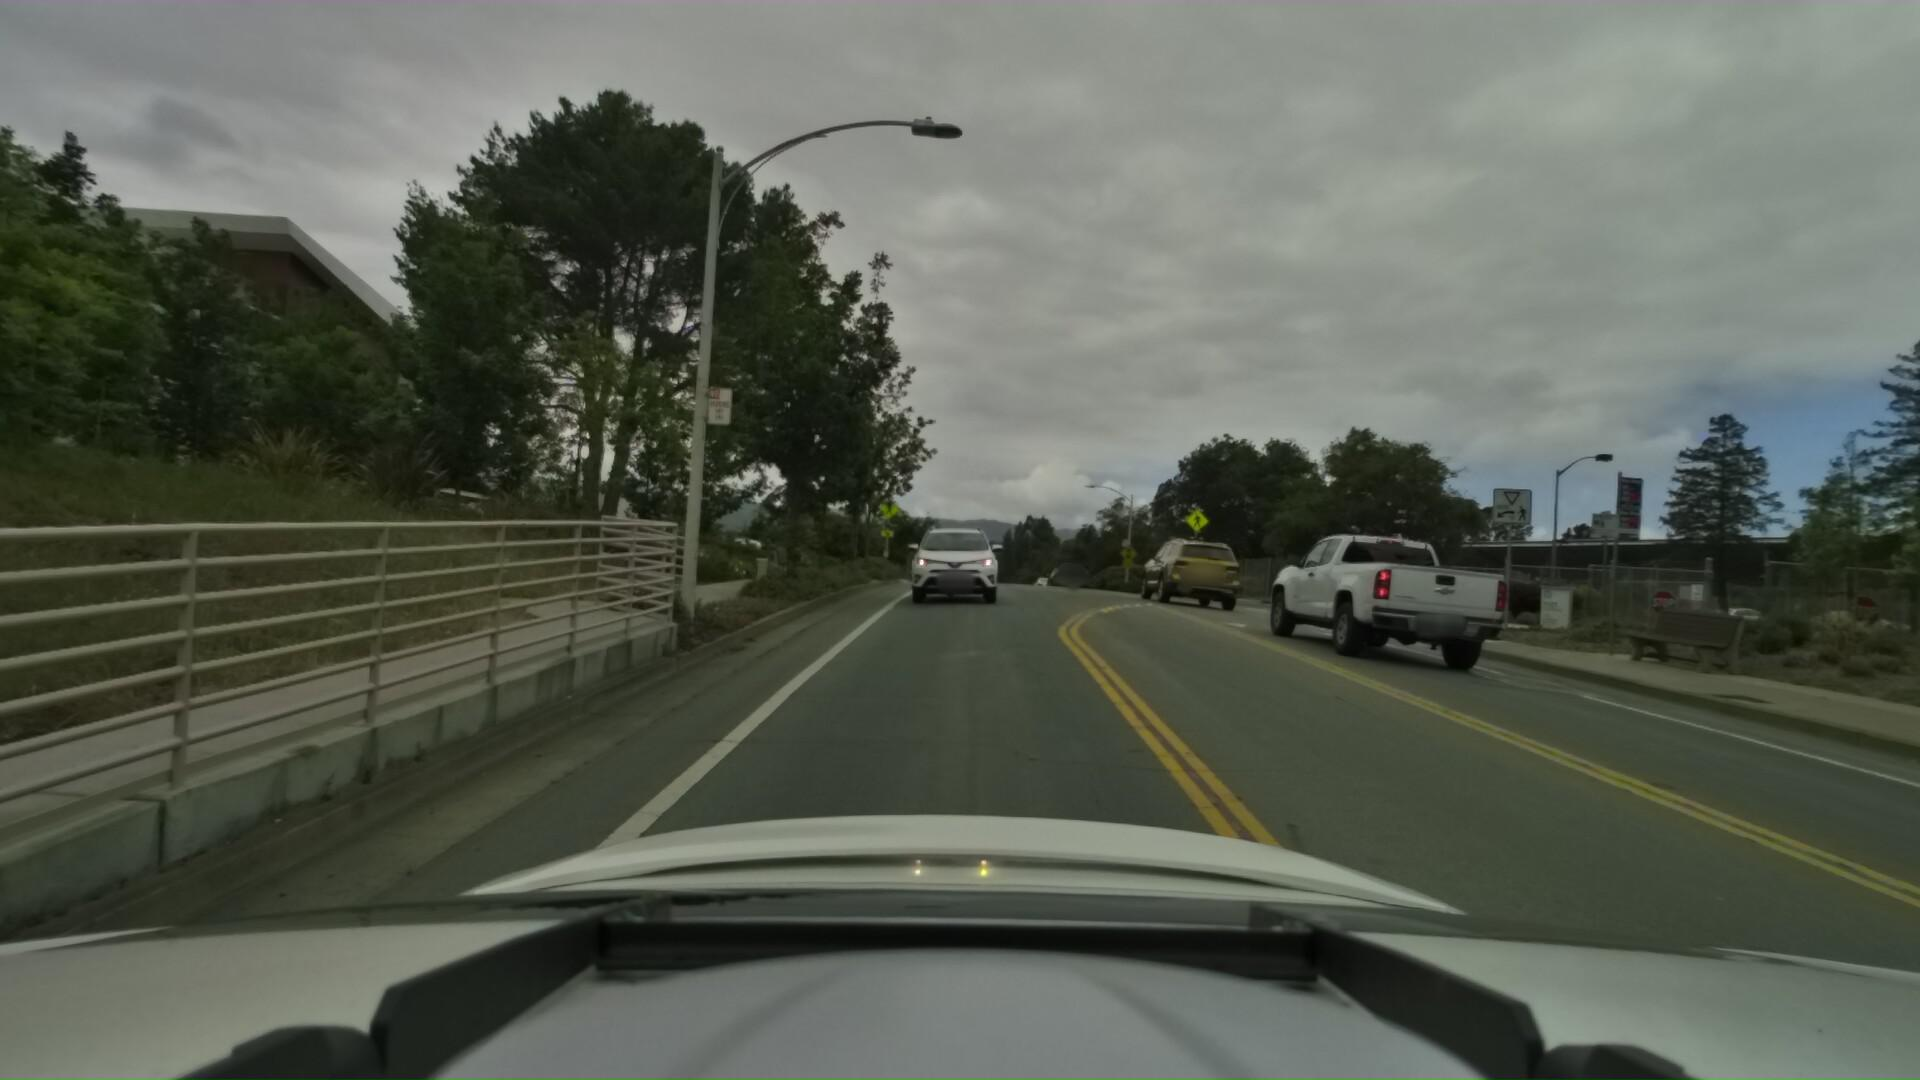car: (1258, 526, 1518, 674), (1135, 533, 1245, 608), (907, 520, 1000, 607), (1047, 556, 1087, 585), (1026, 571, 1054, 592)
